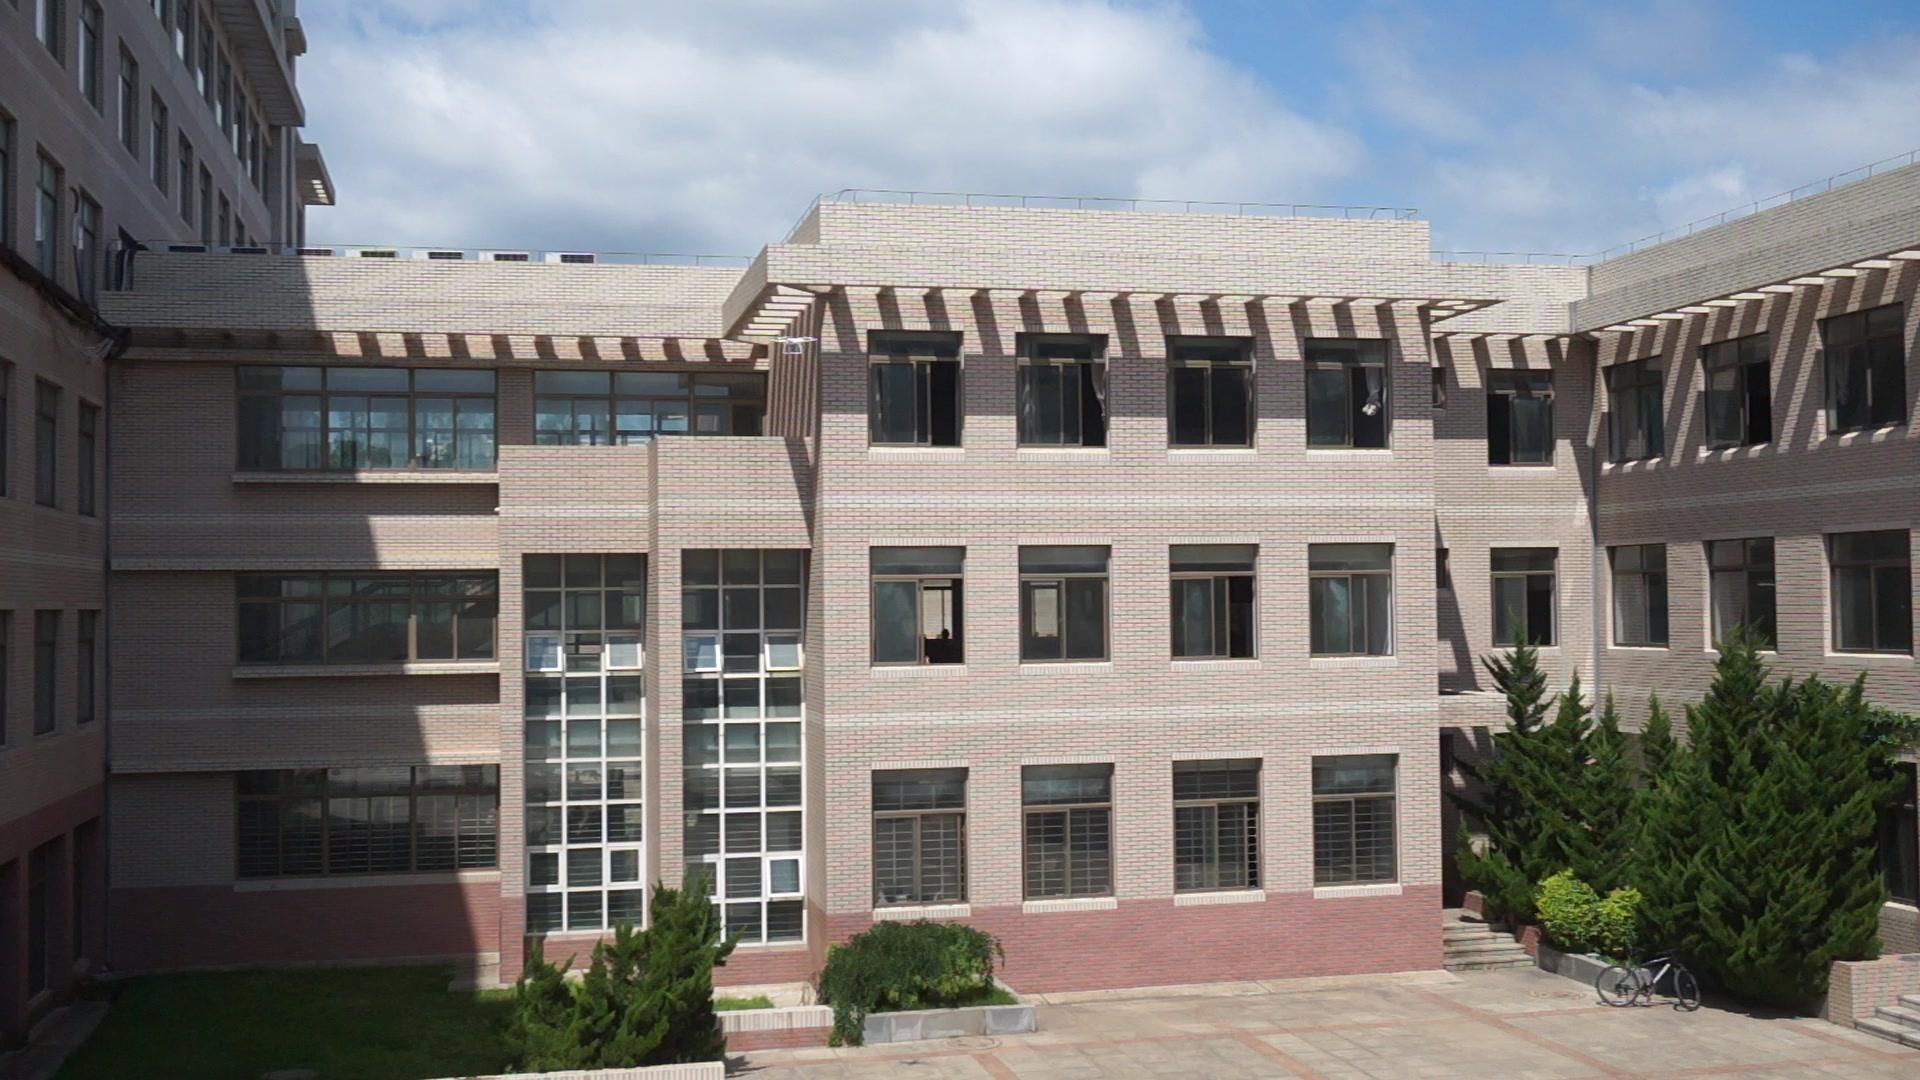UAV: (771, 338, 819, 355)
